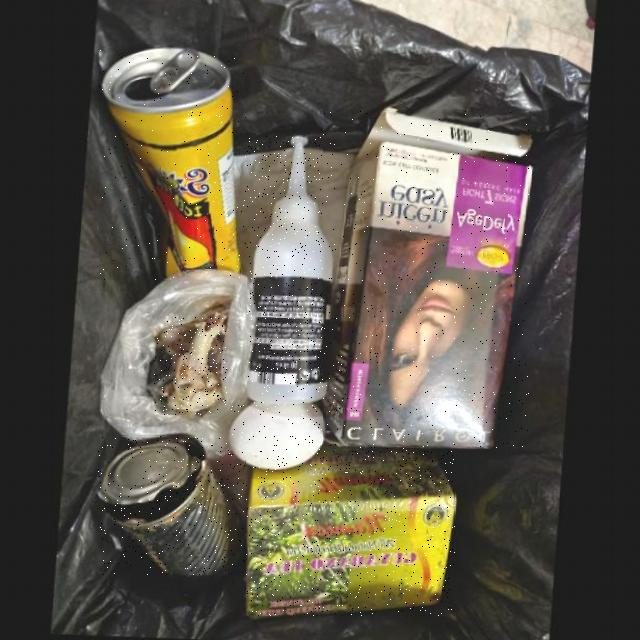biowaste: (154, 317, 227, 415), (229, 403, 324, 470)
metal: (99, 48, 246, 279), (99, 436, 245, 575)
paper: (324, 111, 529, 450), (247, 444, 455, 615)
plastic: (248, 136, 332, 403)
